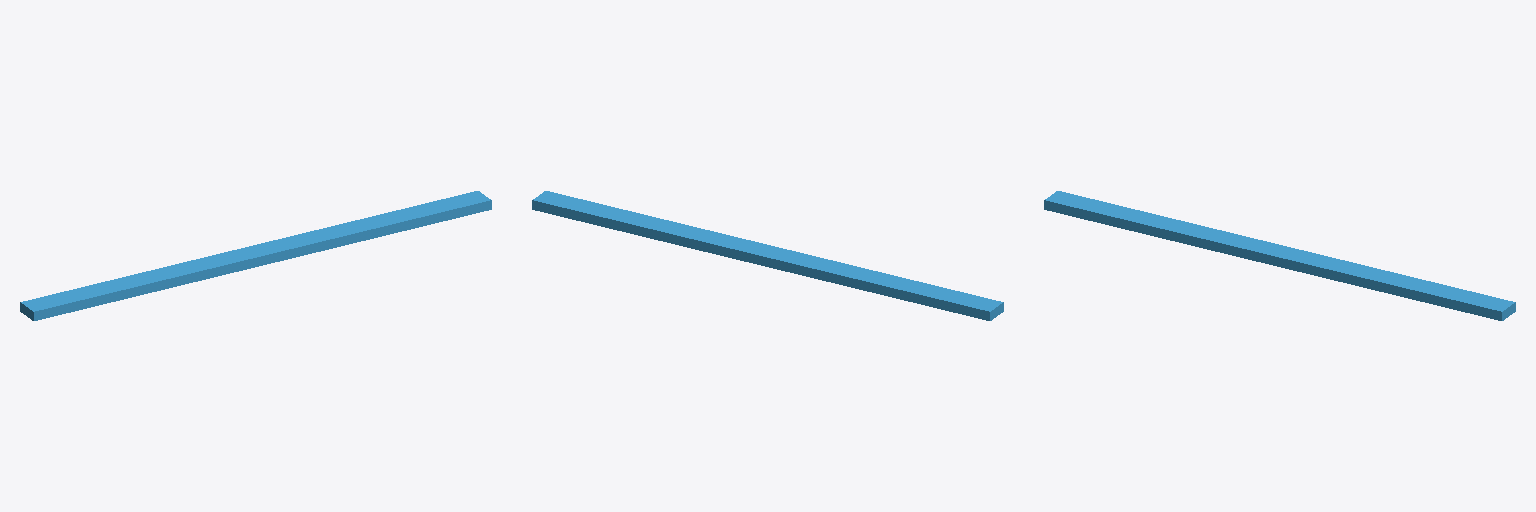
The robot description file, URDF, robot "conveyor_gazebo":
<?xml version="1.0" ?>
<!-- =================================================================================== -->
<!-- |    This document was autogenerated by xacro from conveyor.urdf.xacro            | -->
<!-- |    EDITING THIS FILE BY HAND IS NOT RECOMMENDED                                 | -->
<!-- =================================================================================== -->
<robot name="conveyor_gazebo">
  <link name="world"/>
  <joint name="fixed" type="fixed">
    <parent link="world"/>
    <child link="belt_visual"/>
    <origin rpy="0.0 0.0 0.0" xyz="0.0 0.0 0.1"/>
  </joint>
  <link name="belt_visual">
    <collision>
      <origin rpy="0 0 0" xyz="0.0 0.0 0.0"/>
      <geometry>
        <box size="10.0 0.5 0.2"/>
      </geometry>
    </collision>
    <visual>
      <origin rpy="0 0 0" xyz="0.0 0.0 0.0"/>
      <geometry>
        <box size="10.0 0.5 0.2"/>
      </geometry>
      <material name="purple"/>
    </visual>
    <inertial>
      <origin rpy="0 0 0" xyz="0.0 0.0 0.0"/>
      <mass value="1"/>
      <inertia ixx="1.0" ixy="0.0" ixz="0.0" iyy="1.0" iyz="0.0" izz="1.0"/>
    </inertial>
  </link>
  <link name="belt_moving">
    <inertial>
      <origin rpy="0 0 0" xyz="0.0 0.0 0.0"/>
      <mass value="1"/>
      <inertia ixx="1.0" ixy="0.0" ixz="0.0" iyy="1.0" iyz="0.0" izz="1.0"/>
    </inertial>
    <collision>
      <origin rpy="0 0 0" xyz="0.0 0.0 0.05"/>
      <geometry>
        <box size="10.0 0.5 0.2"/>
      </geometry>
    </collision>
  </link>
  <joint name="belt_joint" type="prismatic">
    <origin rpy="0 0 0" xyz="0.0 0.0 0.05"/>
    <parent link="belt_visual"/>
    <child link="belt_moving"/>
    <axis xyz="1 0 0"/>
    <limit effort="1000" lower="0.0" upper="1.0" velocity="1000"/>
  </joint>
  <gazebo>
    <plugin filename="libROSConveyorBeltPlugin.so" name="belt_conveyor_plugin">
      <robot_namespace>/</robot_namespace>
      <link>belt_moving</link>
      <power>0</power>
      <max_velocity>1.0</max_velocity>
    </plugin>
    <material>Gazebo/Purple</material>
  </gazebo>
</robot>

--- Render facts (derived) ---
Views: 3 orthographic renders of the robot side by side, from view 1: azimuth 30°, elevation 25°; view 2: azimuth 150°, elevation 25°; view 3: azimuth 330°, elevation 25°.
Model conveyor_gazebo with 3 links and 2 joints (1 prismatic, 1 fixed), rooted at world, posed all joints at 0.
Visible links, largest first — view 1: belt_visual; view 2: belt_visual; view 3: belt_visual.
Boxes of the visible links, x1,y1,x2,y2 form: belt_visual: (20,191,491,320); belt_visual: (532,191,1003,320); belt_visual: (1044,191,1515,320).
Size in the robot's own frame: 10 by 0.5 by 0.2 metres.
Geometry: primitives only (box / cylinder / sphere), no mesh files.
